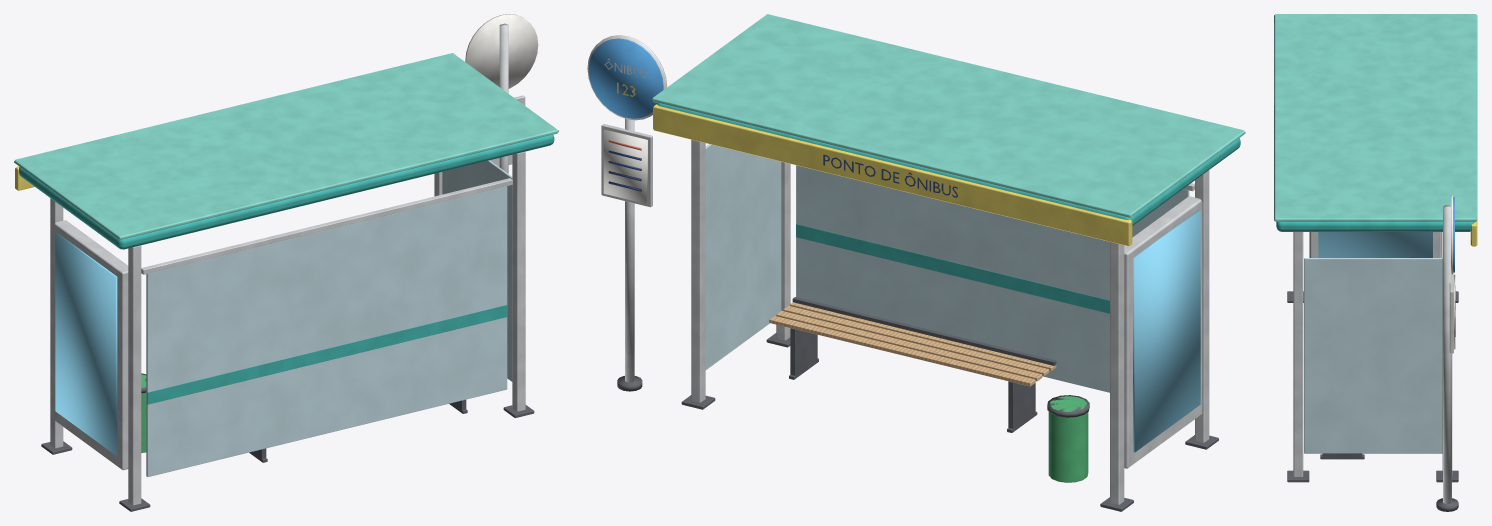
The model's file is Rush_BusShelter.fbx.
3 renders of one model, left to right at view 1: azimuth 30°, elevation 25°; view 2: azimuth 150°, elevation 25°; view 3: azimuth 270°, elevation 25°, orthographic. The views are drawn at different scales.
Visible parts, largest first — view 1: Rush_BusShelter; view 2: Rush_BusShelter; view 3: Rush_BusShelter.
Boxes of the visible parts, x1=… form: Rush_BusShelter: x1=14, y1=14, x2=558, y2=511; Rush_BusShelter: x1=587, y1=14, x2=1245, y2=511; Rush_BusShelter: x1=1274, y1=14, x2=1477, y2=511.
Size of the model in its own units: 5.11 by 3.08 by 1.85.
1 material, 1 textured.
